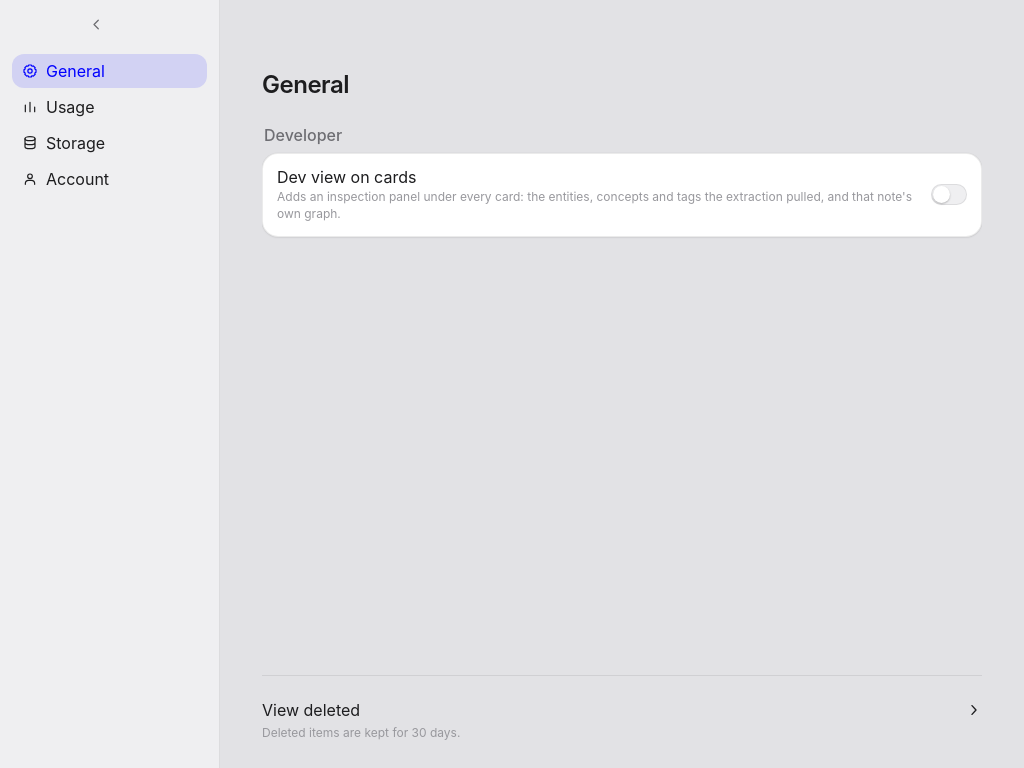
SettingsSheet › shows deleted-item retention at the bottom of General and opens the empty Deleted page
The image size is (1024, 768).
Click the button "View deleted".
click(311, 710)  # box 262,700 -> 982,720
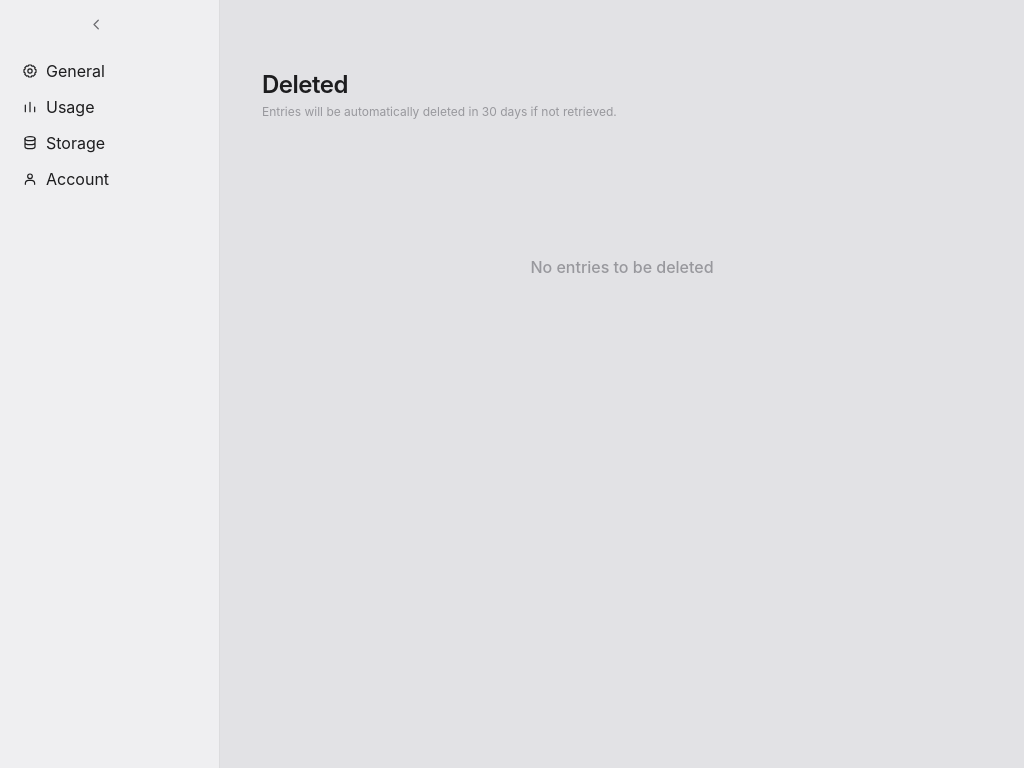
Expected: the heading "Deleted" is shown, 262,70 -> 348,99
Expected: the text "Entries will be automatically deleted in 30 days if not retrieved." is shown, 262,104 -> 617,119
Expected: the text "No entries to be deleted" is shown, 530,257 -> 714,277
